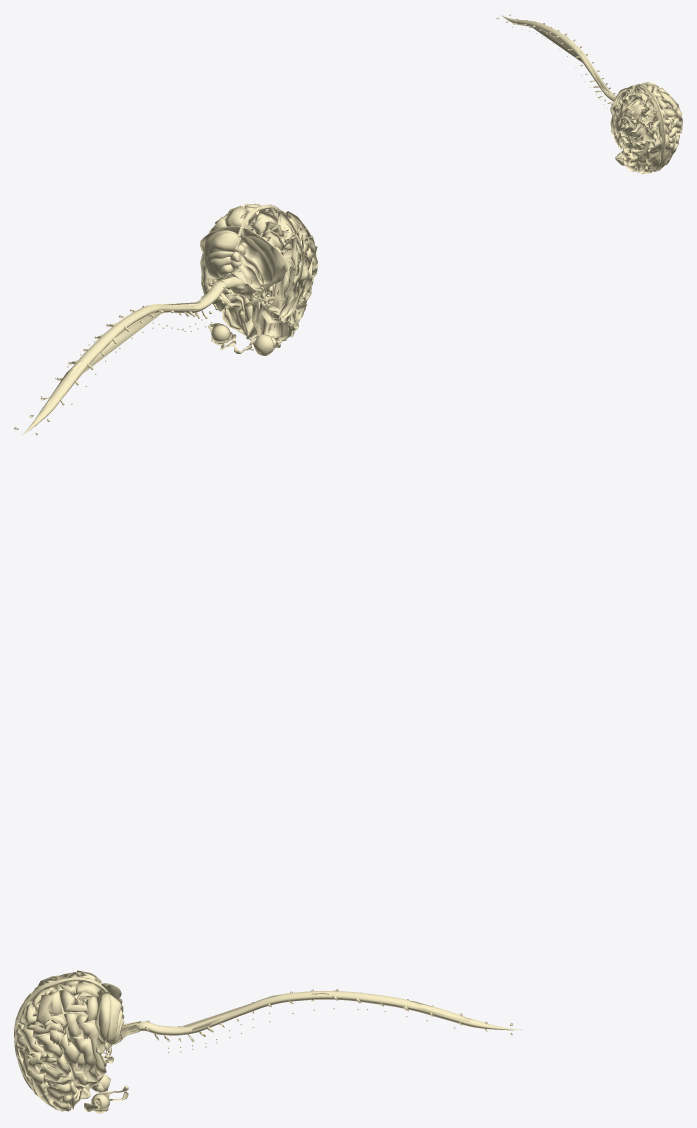
The model's file is overview__nervous.59579f2b3c.glb.
The picture shows the model from 3 angles, top to bottom: view 1: azimuth 30°, elevation 25°; view 2: azimuth 150°, elevation 25°; view 3: azimuth 270°, elevation 25°; orthographic projection. The views are drawn at different scales.
Parts seen in each view (by area): view 1: Spinal dura, White matter of telencephalon.r, White matter of spinal cord, Falx cerebri, Superior frontal gyrus.r, Middle frontal gyrus.r, Precentral gyrus.r, Angular gyrus.r; view 2: Spinal dura, White matter of spinal cord, White matter of telencephalon.r; view 3: Spinal dura, Middle temporal gyrus.l, Falx cerebri, Angular gyrus.l, White matter of telencephalon.l, Inferior temporal gyrus.l, Supramarginal gyrus.l, Middle frontal gyrus.l, Superior temporal gyrus (Lateral part).l, Precentral gyrus.l, White matter of spinal cord.
Part boxes in pixels (x1,y1,x2,y2): Spinal dura: [501, 15, 615, 104]; White matter of telencephalon.r: [613, 85, 660, 172]; White matter of spinal cord: [508, 18, 609, 93]; Falx cerebri: [636, 84, 665, 171]; Superior frontal gyrus.r: [642, 136, 662, 174]; Middle frontal gyrus.r: [626, 141, 648, 172]; Precentral gyrus.r: [623, 131, 657, 152]; Angular gyrus.r: [623, 96, 646, 121]; Spinal dura: [22, 281, 226, 434]; White matter of spinal cord: [33, 303, 202, 425]; White matter of telencephalon.r: [251, 211, 315, 336]; Spinal dura: [137, 990, 520, 1041]; Middle temporal gyrus.l: [63, 1013, 97, 1082]; Falx cerebri: [14, 977, 107, 1099]; Angular gyrus.l: [35, 990, 67, 1035]; White matter of telencephalon.l: [17, 982, 99, 1105]; Inferior temporal gyrus.l: [76, 1014, 106, 1075]; Supramarginal gyrus.l: [32, 1022, 63, 1059]; Middle frontal gyrus.l: [23, 1049, 68, 1111]; Superior temporal gyrus (Lateral part).l: [60, 1033, 89, 1086]; Precentral gyrus.l: [17, 1034, 60, 1081]; White matter of spinal cord: [179, 993, 521, 1034].
Bounding box in the file's own units: 1030 × 174 × 824.
